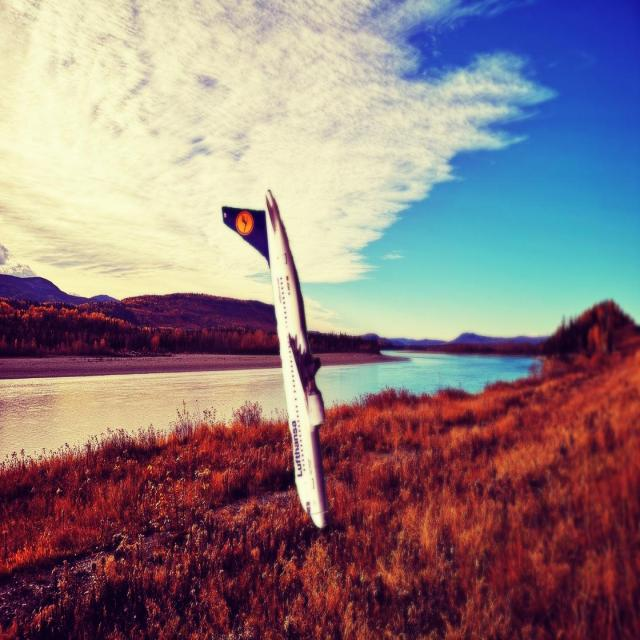airplane: (221, 187, 331, 529)
